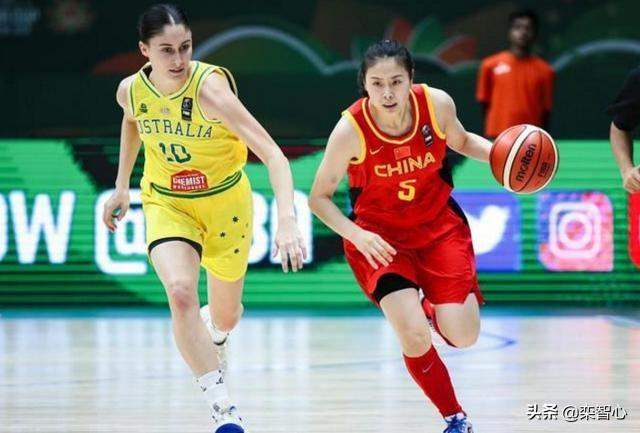ball: (489, 123, 560, 195)
